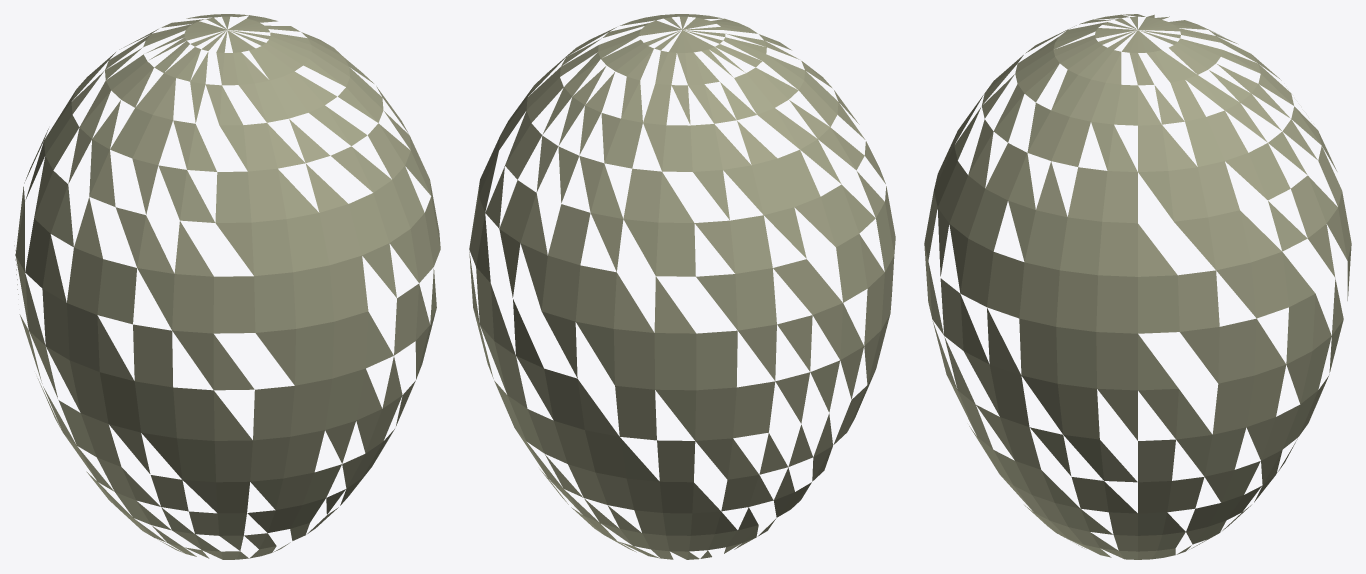
Rendered from food_egg_chicken_b05.glb.
3 views of the same model, side by side, from view 1: azimuth 30°, elevation 25°; view 2: azimuth 150°, elevation 25°; view 3: azimuth 270°, elevation 25° (orthographic).
Visible parts, largest first — view 1: geometry_0; view 2: geometry_0; view 3: geometry_0.
Part boxes in pixels (left/top/right/bottom): geometry_0: left=14, top=14, right=440, bottom=559; geometry_0: left=469, top=14, right=895, bottom=559; geometry_0: left=924, top=14, right=1351, bottom=559.
Size of the model in its own units: 0.3574 by 0.48 by 0.3574.
